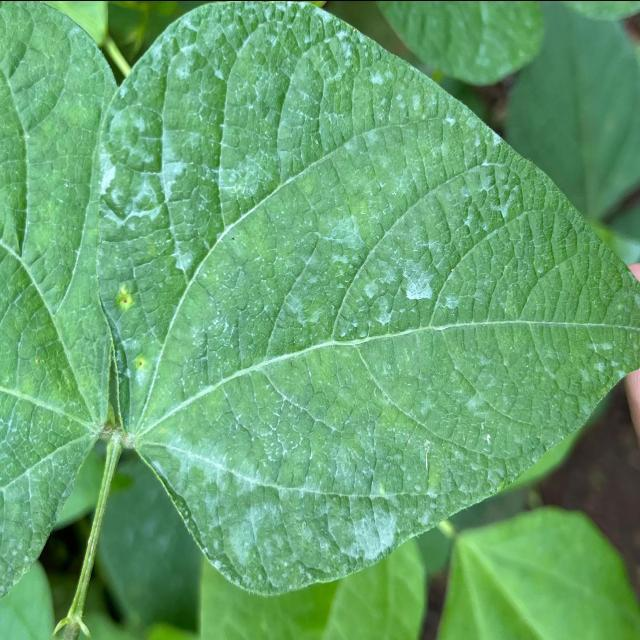embun tepung: (152, 432, 412, 581), (110, 57, 204, 260), (393, 265, 443, 330)
